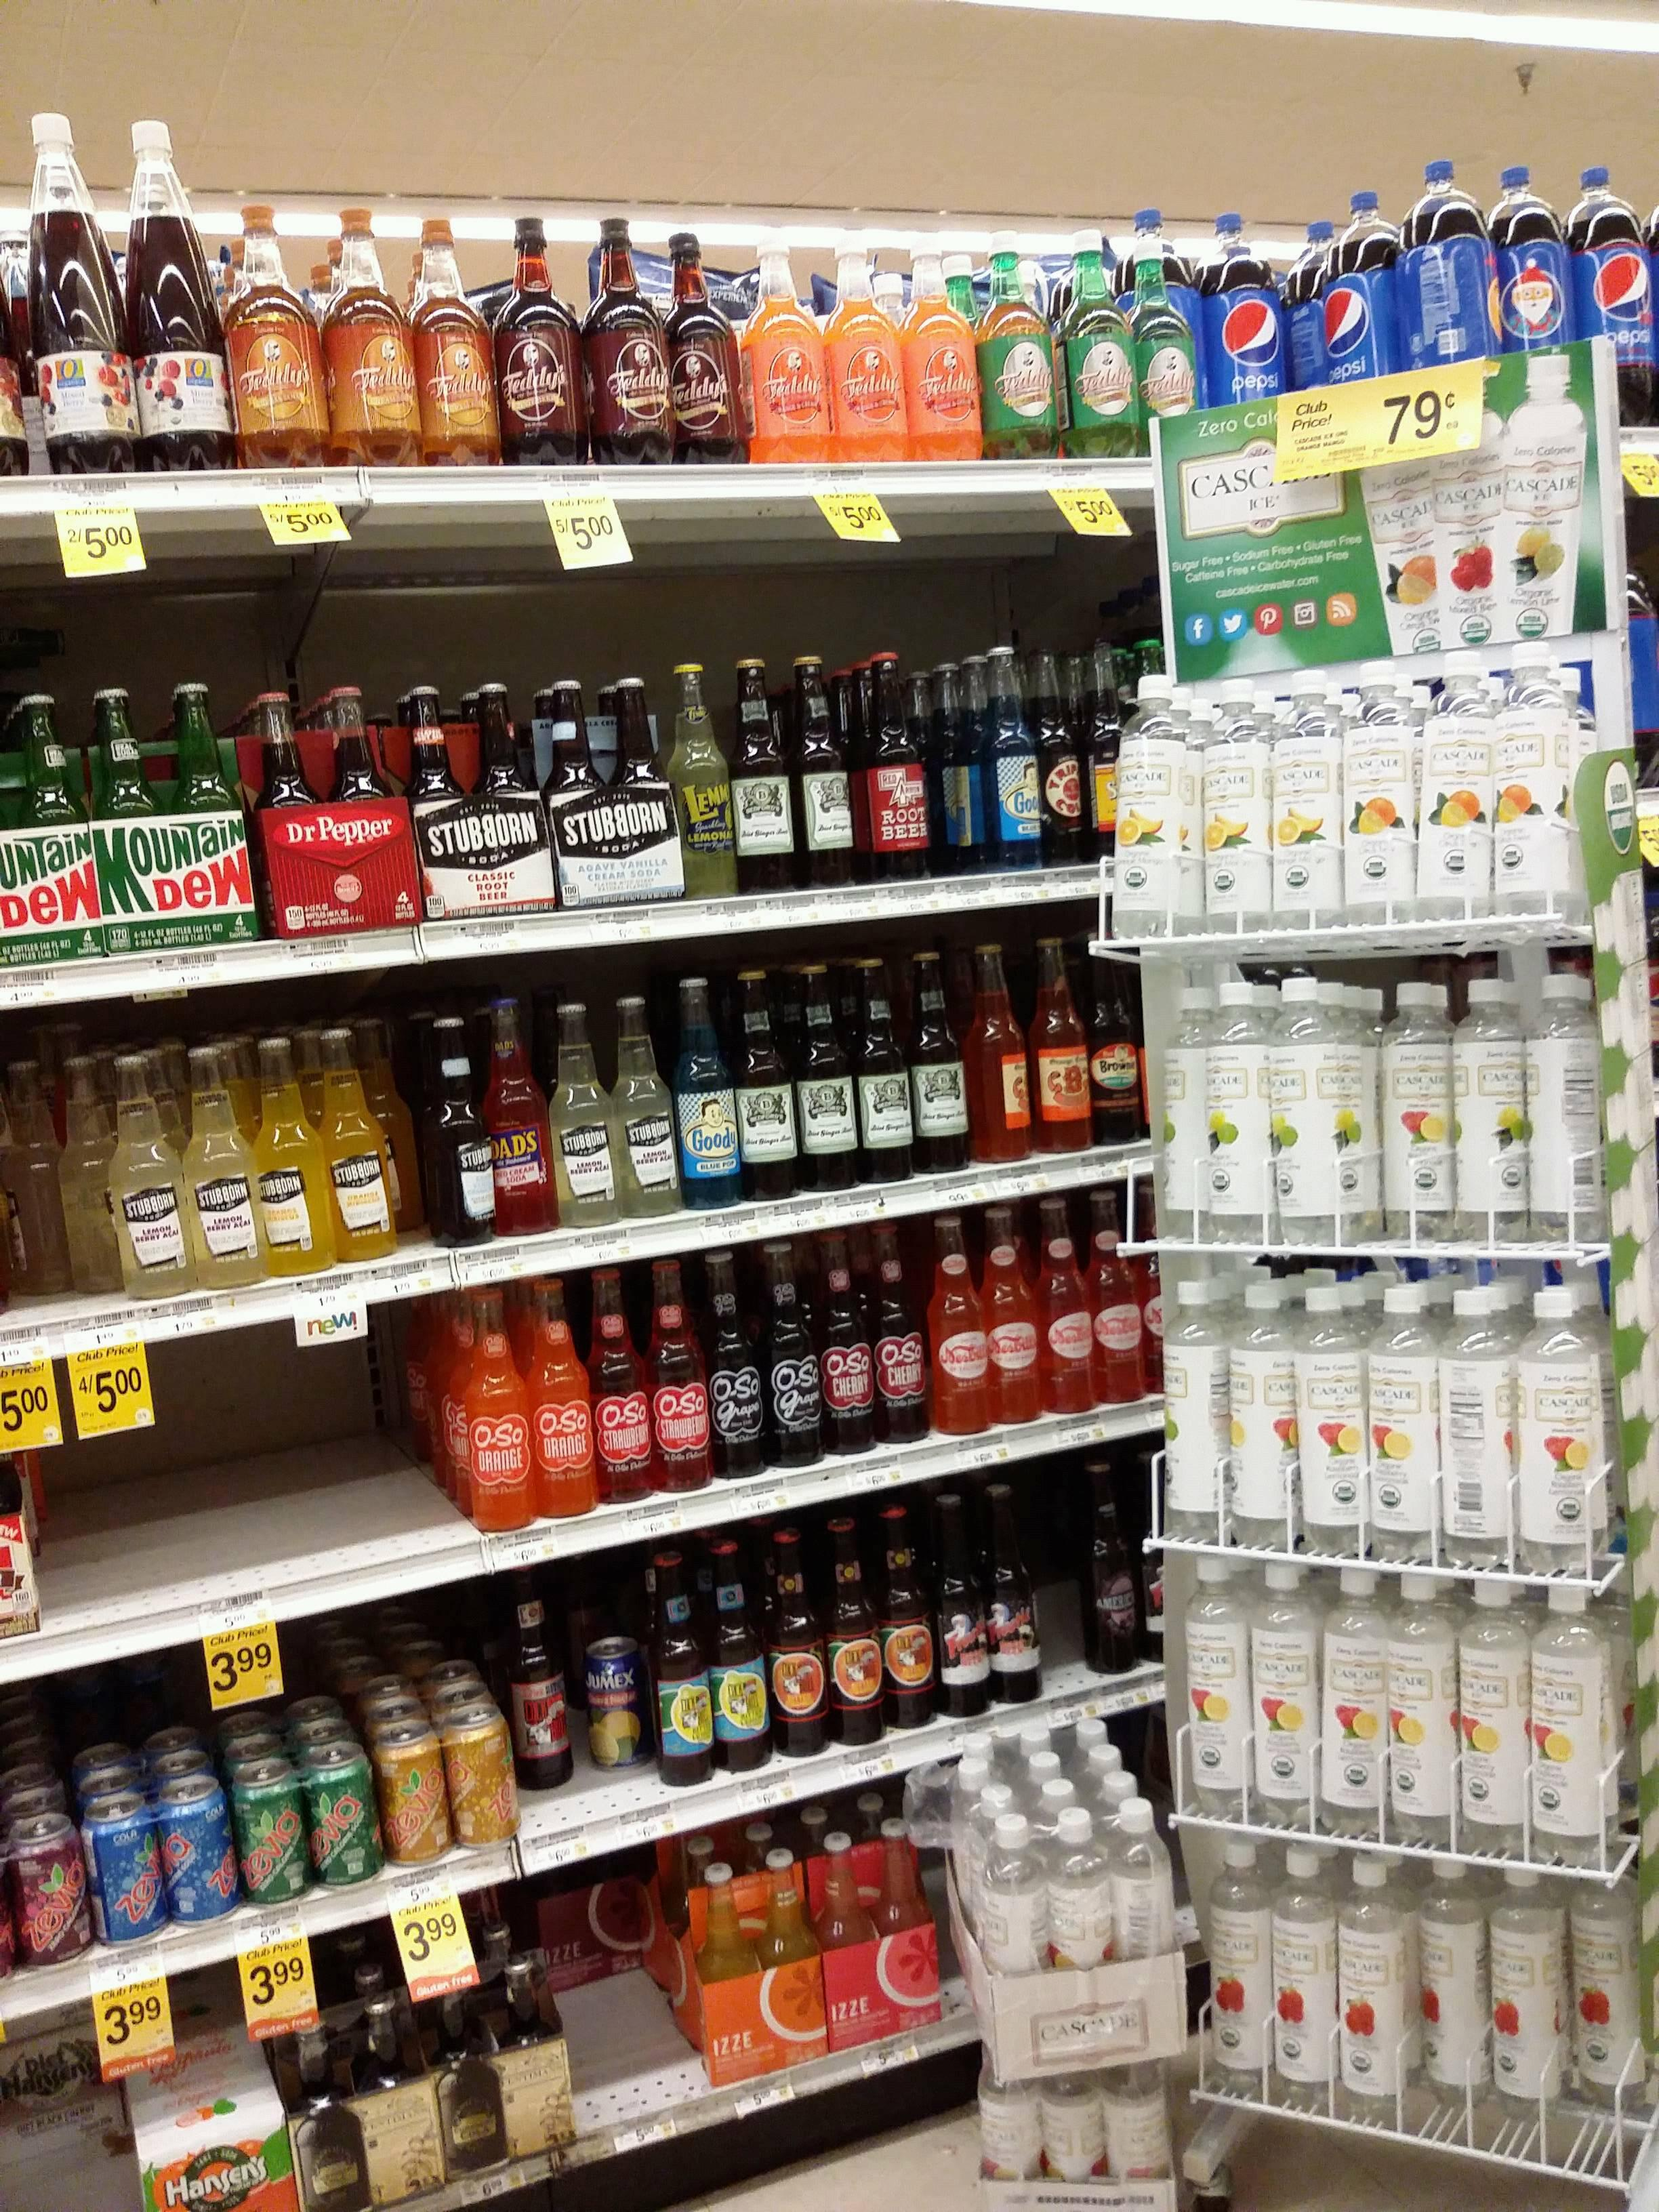empty: (265, 1336, 420, 1554), (558, 1905, 706, 2099), (89, 1418, 235, 1611)
